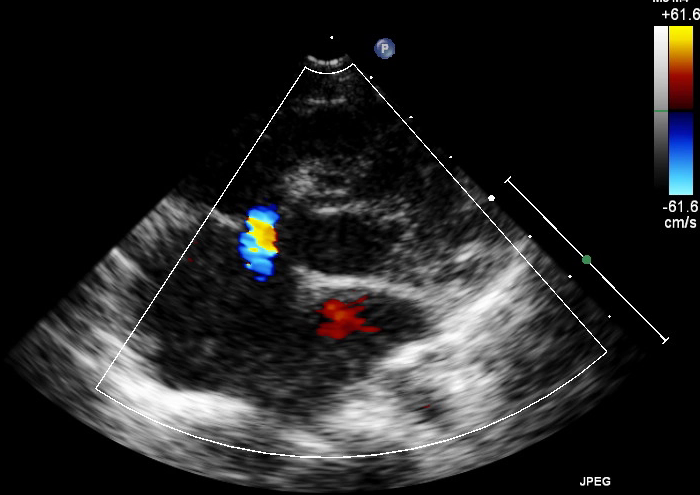TR: (212, 206, 281, 283)
